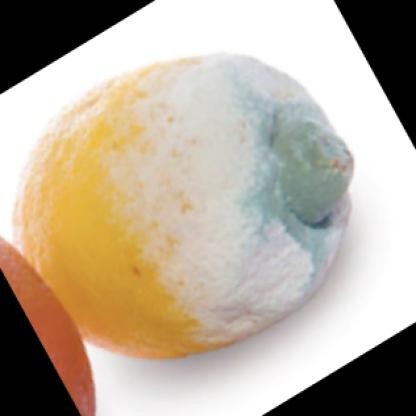rotten: (14, 51, 355, 359)
